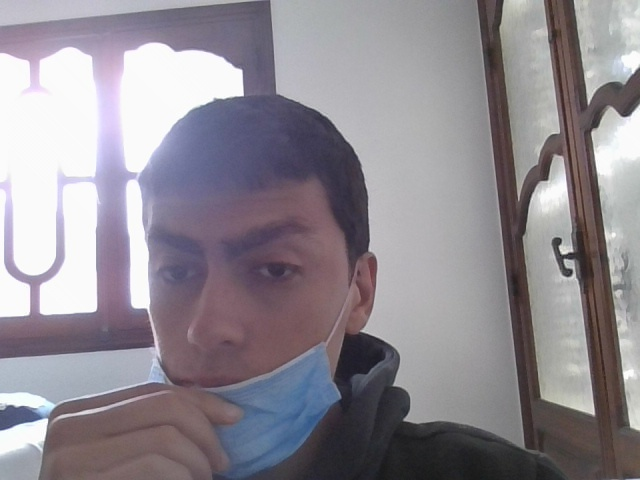mask_weared_incorrect: (142, 114, 360, 472)
